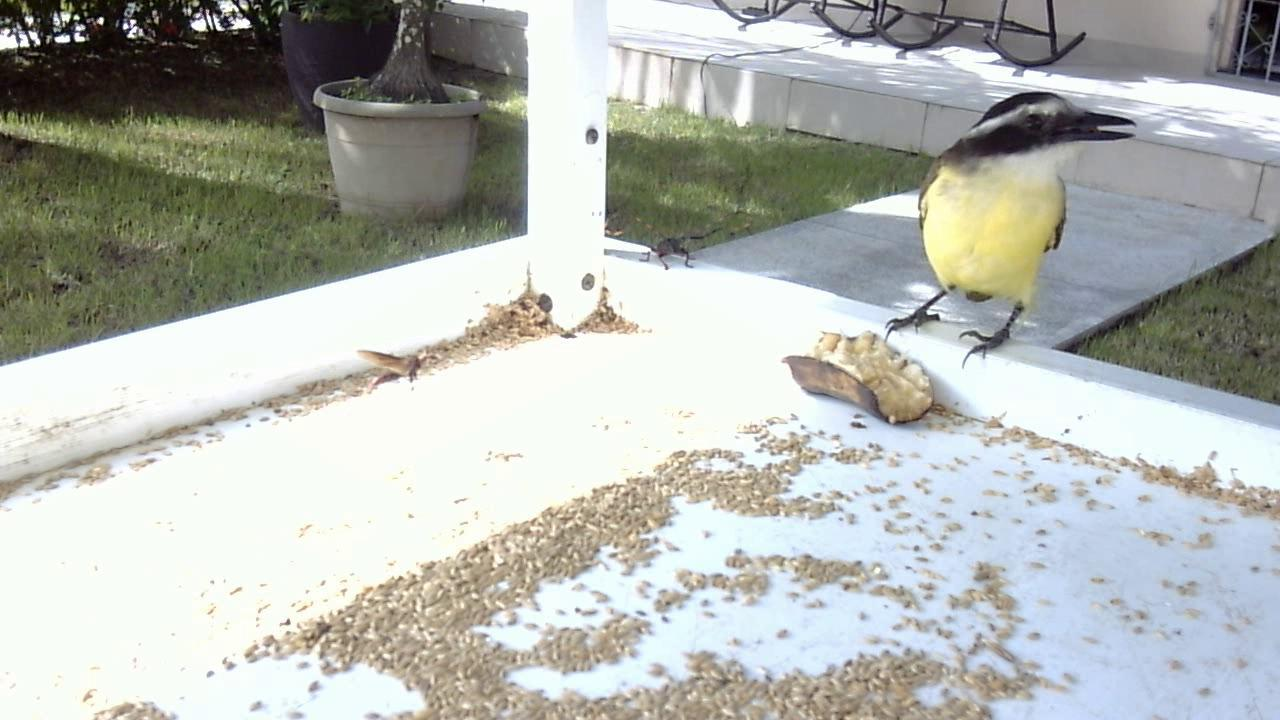bem_te_vi: (868, 83, 1139, 381)
